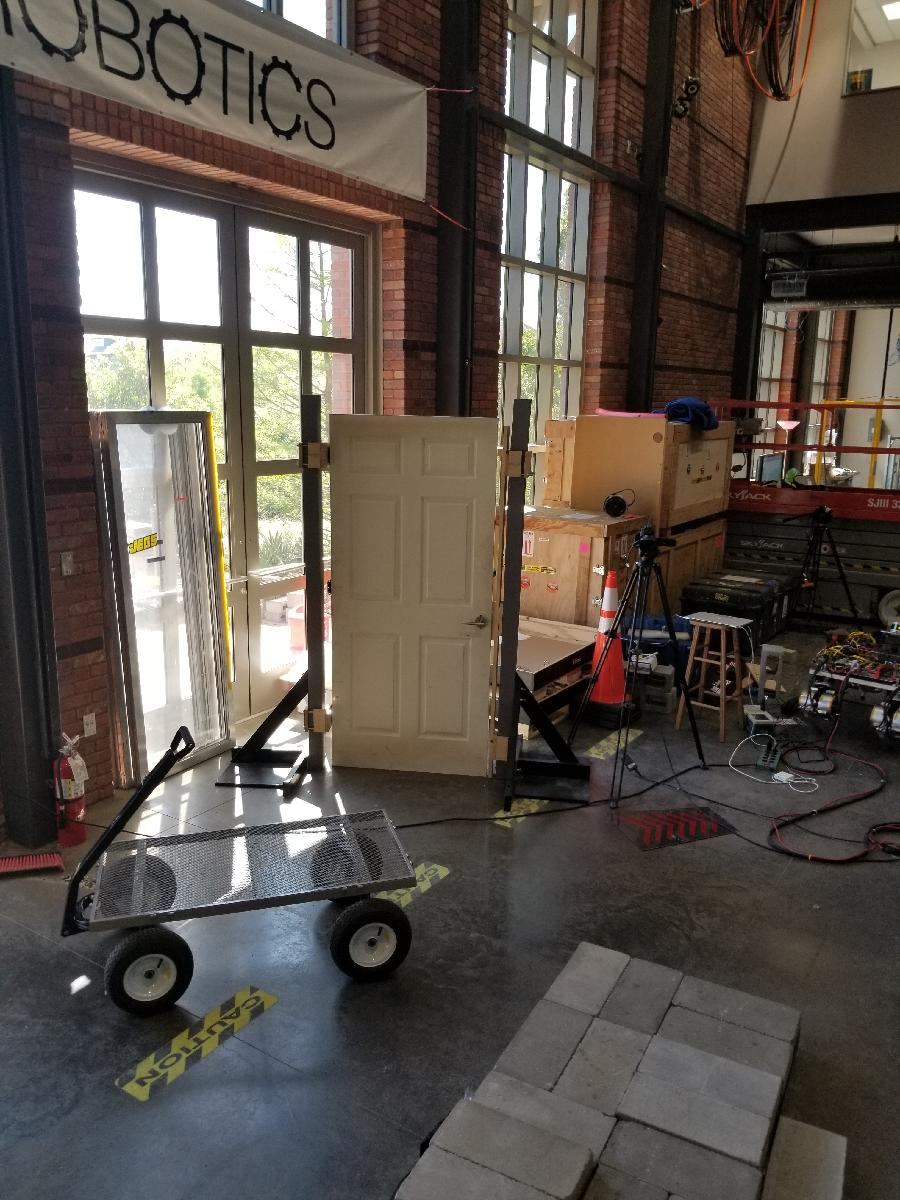door: (326, 409, 500, 786)
doorHandle: (461, 611, 493, 632)
